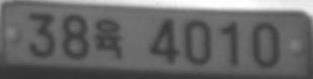0: (252, 23, 279, 66), (185, 20, 211, 63)
1: (219, 22, 242, 63)
3: (29, 12, 54, 57)
4: (149, 20, 179, 62)
8: (63, 14, 88, 58)
육: (94, 19, 124, 58)
